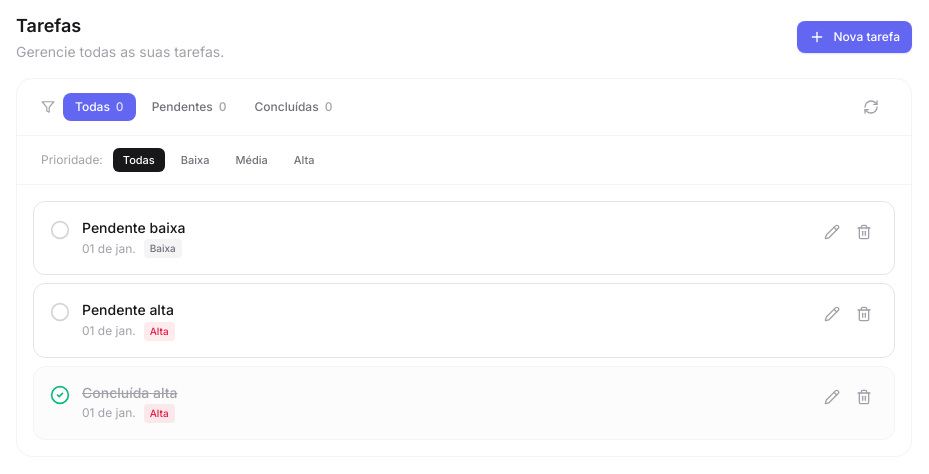
Scenario: TasksPage — combinação de statusFilter + priorityFilter › combina status=Pendentes + priority=Alta simultaneamente (cenário do bug antigo)
The width and height of the screenshot is (929, 474).
Click the button "Pendentes0". click: (189, 107)
box: [140, 93, 238, 121]
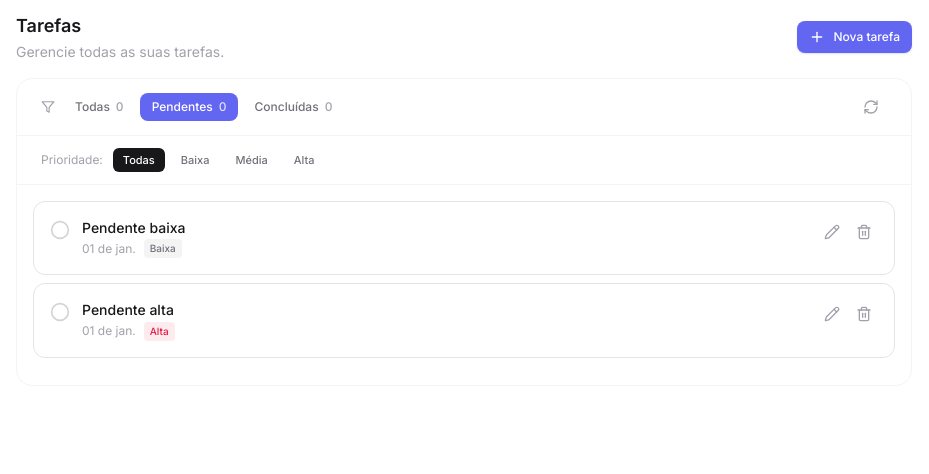
Click the button "Alta". click: (304, 160)
box: [284, 148, 324, 172]
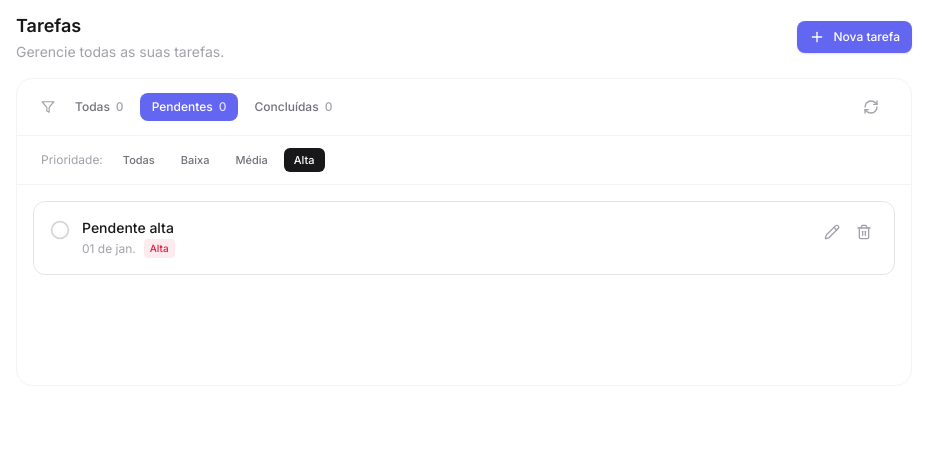
Expected: the text "Pendente alta" is shown, [82, 219, 174, 236]
Expected: the text "Pendente baixa" is gone
